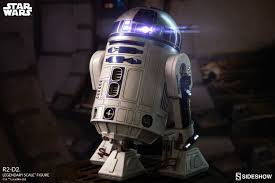r2d2: (89, 6, 210, 179)
